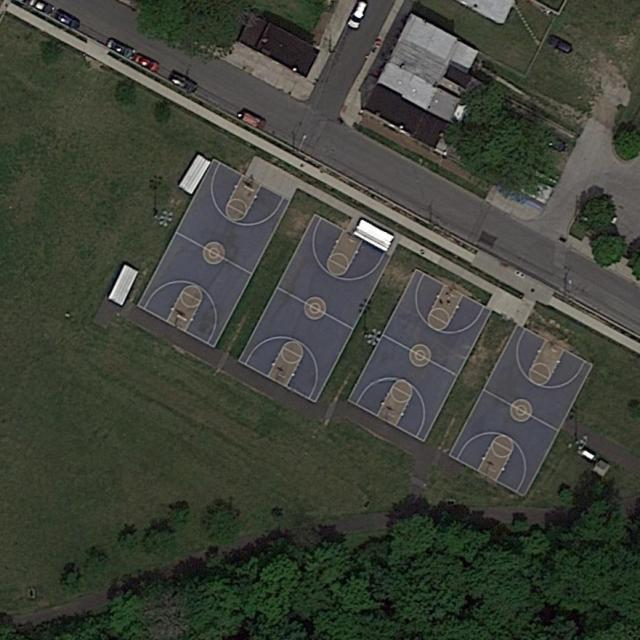small-vehicle: (231, 106, 270, 135), (164, 70, 200, 97), (538, 128, 570, 157), (345, 1, 370, 31), (105, 37, 136, 61), (546, 34, 575, 57), (133, 52, 162, 74), (54, 10, 84, 31), (375, 36, 384, 49)
